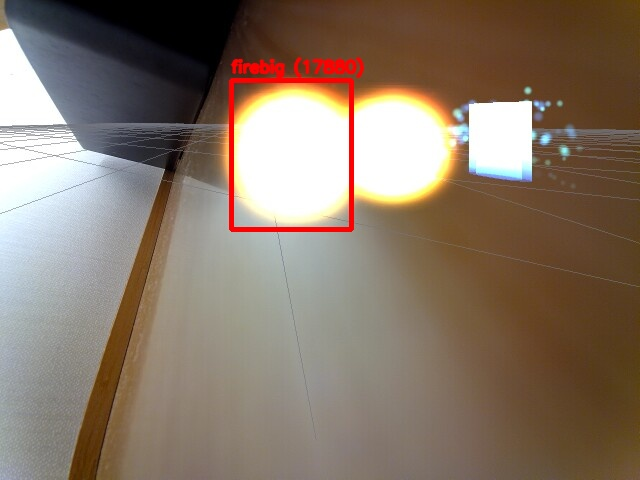firebig: (231, 80, 351, 229)
